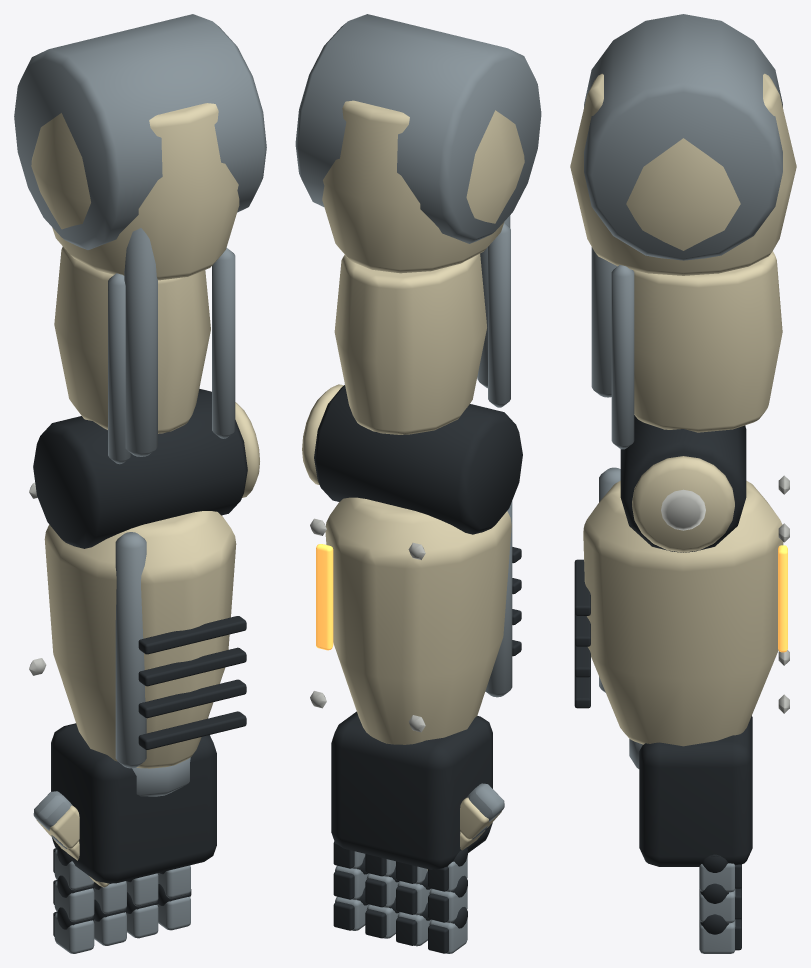
The model's file is arms_02.glb.
3 renders of one model, left to right at view 1: azimuth 30°, elevation 25°; view 2: azimuth 150°, elevation 25°; view 3: azimuth 270°, elevation 25°, orthographic. The views are drawn at different scales.
Visible parts, largest first — view 1: UpperArm.001_Geometry, Forearm.001_Geometry, Shoulder bearing.001, FingerThumb1.001_Geometry, FingerIndex3.001_Geometry, FingerIndex2.001_Geometry, FingerPinky3.001_Geometry, FingerMiddle3.001_Geometry, FingerRing3.001_Geometry, FingerIndex1.001_Geometry, FingerMiddle2.001_Geometry, FingerRing2.001_Geometry (+1 smaller); view 2: UpperArm.001_Geometry, Forearm.001_Geometry, Shoulder bearing.001, FingerThumb1.001_Geometry, FingerIndex3.001_Geometry, FingerIndex2.001_Geometry, FingerPinky3.001_Geometry, FingerPinky2.001_Geometry, FingerMiddle3.001_Geometry, FingerIndex1.001_Geometry, FingerMiddle2.001_Geometry, FingerRing3.001_Geometry (+4 smaller); view 3: Forearm.001_Geometry, UpperArm.001_Geometry, Shoulder bearing.001, FingerPinky3.001_Geometry, FingerPinky2.001_Geometry, FingerPinky1.001_Geometry.
Part boxes in pixels (bbox=[...]): UpperArm.001_Geometry: bbox=[31, 103, 247, 548]; Forearm.001_Geometry: bbox=[29, 402, 259, 883]; Shoulder bearing.001: bbox=[14, 14, 266, 249]; FingerThumb1.001_Geometry: bbox=[33, 791, 79, 848]; FingerIndex3.001_Geometry: bbox=[53, 907, 94, 953]; FingerIndex2.001_Geometry: bbox=[53, 875, 94, 921]; FingerPinky3.001_Geometry: bbox=[157, 884, 191, 930]; FingerMiddle3.001_Geometry: bbox=[93, 899, 126, 945]; FingerRing3.001_Geometry: bbox=[126, 892, 158, 938]; FingerIndex1.001_Geometry: bbox=[53, 846, 93, 890]; FingerMiddle2.001_Geometry: bbox=[93, 881, 126, 913]; FingerRing2.001_Geometry: bbox=[126, 873, 158, 906]; UpperArm.001_Geometry: bbox=[314, 100, 524, 534]; Forearm.001_Geometry: bbox=[302, 384, 521, 869]; Shoulder bearing.001: bbox=[295, 14, 541, 243]; FingerThumb1.001_Geometry: bbox=[460, 783, 504, 839]; FingerIndex3.001_Geometry: bbox=[428, 907, 467, 953]; FingerIndex2.001_Geometry: bbox=[428, 875, 467, 922]; FingerPinky3.001_Geometry: bbox=[333, 887, 368, 930]; FingerPinky2.001_Geometry: bbox=[333, 856, 368, 899]; FingerMiddle3.001_Geometry: bbox=[396, 902, 430, 946]; FingerIndex1.001_Geometry: bbox=[428, 847, 467, 891]; FingerMiddle2.001_Geometry: bbox=[396, 871, 430, 915]; FingerRing3.001_Geometry: bbox=[365, 897, 398, 938]; Forearm.001_Geometry: bbox=[574, 456, 789, 866]; UpperArm.001_Geometry: bbox=[570, 73, 796, 552]; Shoulder bearing.001: bbox=[584, 14, 782, 260]; FingerPinky3.001_Geometry: bbox=[699, 914, 741, 953]; FingerPinky2.001_Geometry: bbox=[699, 883, 741, 923]; FingerPinky1.001_Geometry: bbox=[699, 854, 741, 892].
Size of the model in its own units: 0.1772 by 0.7705 by 0.18.
